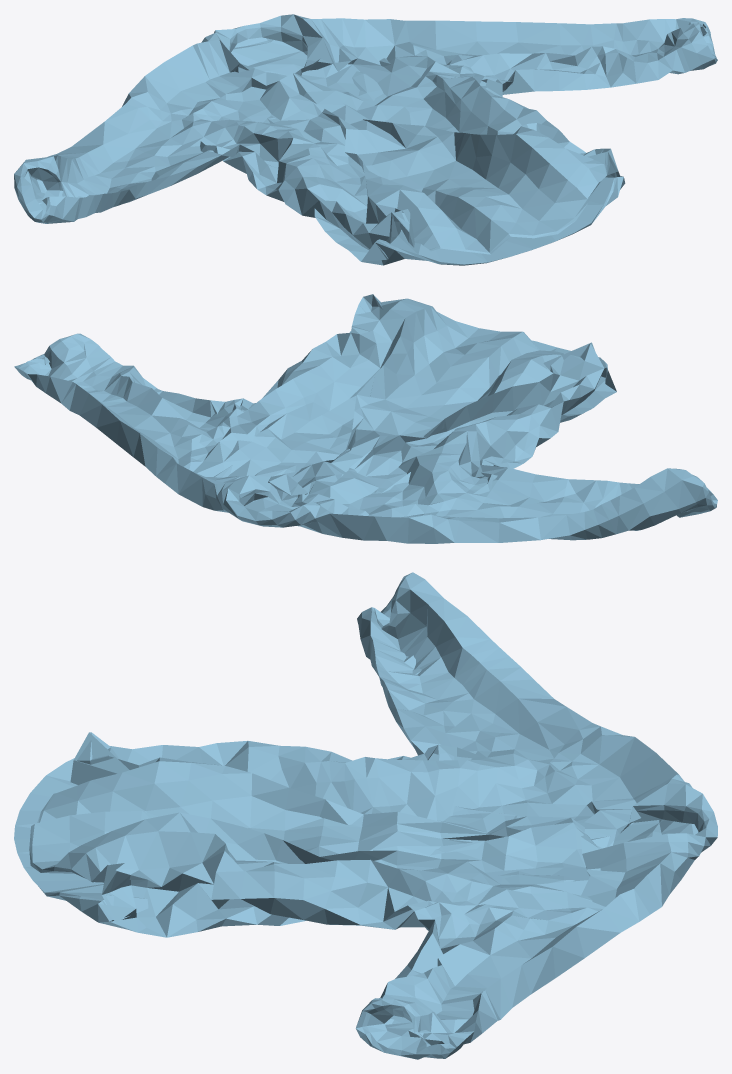
File: frame_01.glb
3 views of the same model, one above another, from view 1: azimuth 30°, elevation 25°; view 2: azimuth 150°, elevation 25°; view 3: azimuth 270°, elevation 25° (orthographic). The views are drawn at different scales.
Visible parts, largest first — view 1: frame_01.obj; view 2: frame_01.obj; view 3: frame_01.obj.
Part boxes in pixels (x1,y1,x2,y2): frame_01.obj: (14, 14, 717, 265); frame_01.obj: (14, 294, 717, 543); frame_01.obj: (14, 572, 717, 1059).
Size of the model in its own units: 1.99 by 0.2027 by 1.38.
